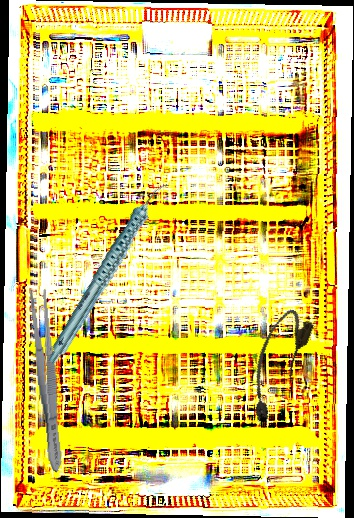Cannula: (234, 304, 318, 428)
Dressing Forceps: (26, 286, 68, 474)
Handpiece: (15, 179, 202, 366)
